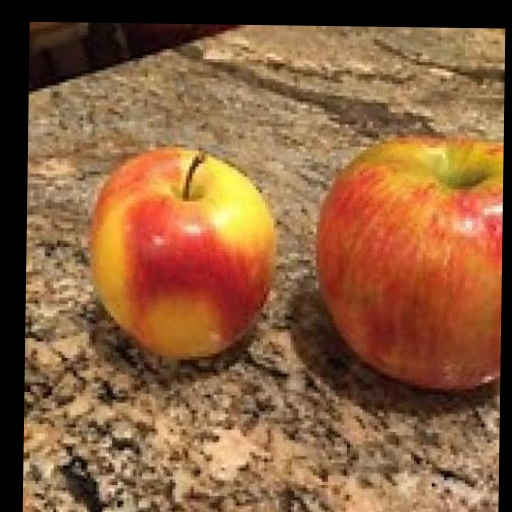fruit: (317, 138, 503, 389), (90, 149, 276, 358)
